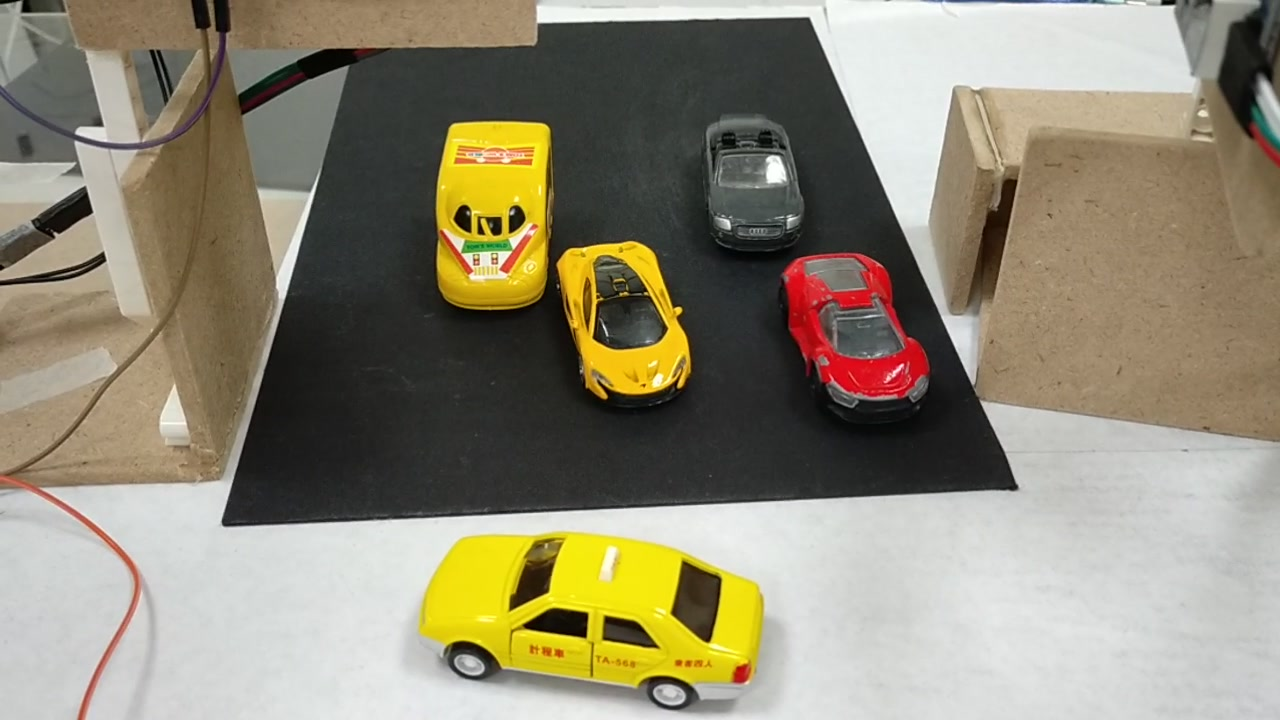car: (419, 539, 766, 709), (773, 251, 936, 428), (553, 246, 695, 400), (707, 121, 805, 248)
